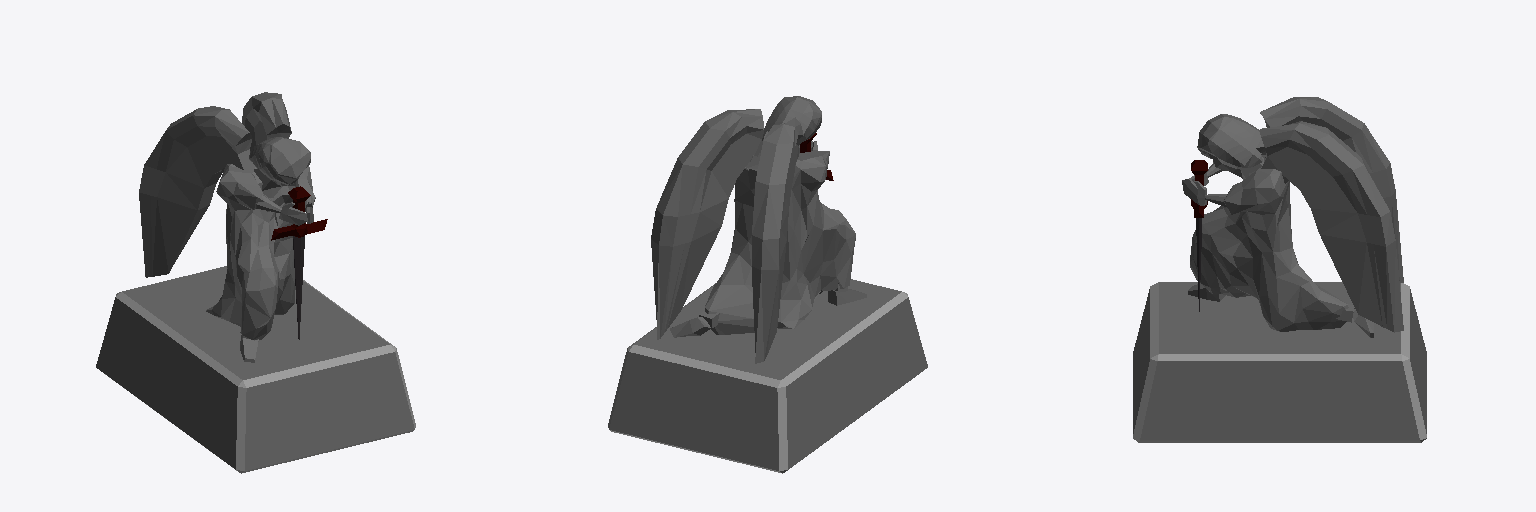
File: AngelStatue.obj
The picture shows the model from 3 angles: view 1: azimuth 30°, elevation 25°; view 2: azimuth 150°, elevation 25°; view 3: azimuth 270°, elevation 25°; orthographic projection.
Parts seen in each view (by area): view 1: Angel_Statue_Cube.004; view 2: Angel_Statue_Cube.004; view 3: Angel_Statue_Cube.004.
Part boxes in pixels (left/top/right/bottom): Angel_Statue_Cube.004: left=96, top=92, right=415, bottom=473; Angel_Statue_Cube.004: left=608, top=96, right=927, bottom=473; Angel_Statue_Cube.004: left=1133, top=97, right=1426, bottom=442.
Bounding box in the file's own units: 2.48 × 3.81 × 3.51.